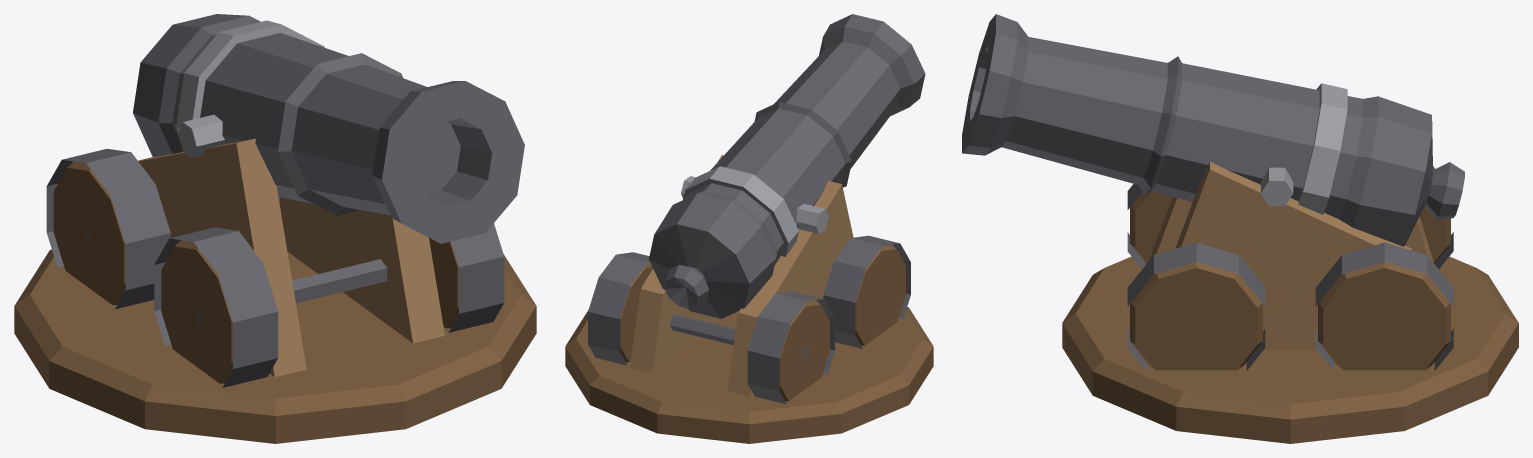
Rendered from cannon_turret_2.glb.
3 renders of one model, left to right at view 1: azimuth 30°, elevation 25°; view 2: azimuth 150°, elevation 25°; view 3: azimuth 270°, elevation 25°, orthographic. The views are drawn at different scales.
Parts seen in each view (by area): view 1: Cannon; view 2: Cannon; view 3: Cannon.
Part boxes in pixels (x1,y1,x2,y2): Cannon: (14, 14, 536, 443); Cannon: (565, 14, 933, 443); Cannon: (962, 14, 1518, 443).
Size of the model in its own units: 1.7 by 1.33 by 2.07.
